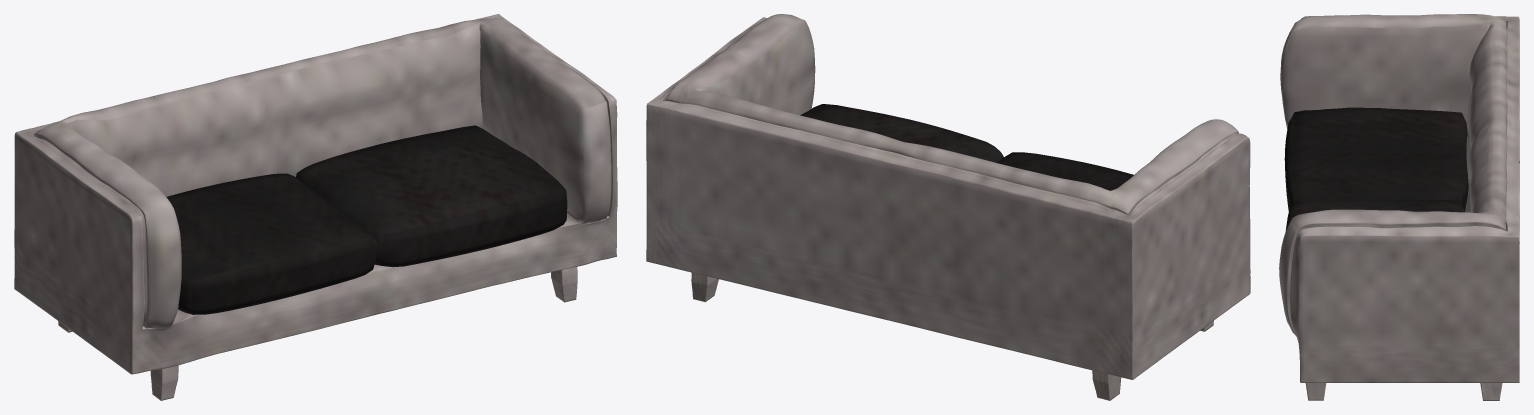
The model's file is sofa.fbx.
3 views of the same model, side by side, from view 1: azimuth 30°, elevation 25°; view 2: azimuth 150°, elevation 25°; view 3: azimuth 270°, elevation 25° (orthographic). The views are drawn at different scales.
Parts seen in each view (by area): view 1: Sofa; view 2: Sofa; view 3: Sofa.
Boxes of the visible parts, <box> form: Sofa: <box>14,14,617,400</box>; Sofa: <box>646,14,1250,400</box>; Sofa: <box>1279,14,1519,400</box>.
Size of the model in its own units: 16.36 by 6.69 by 7.54.
